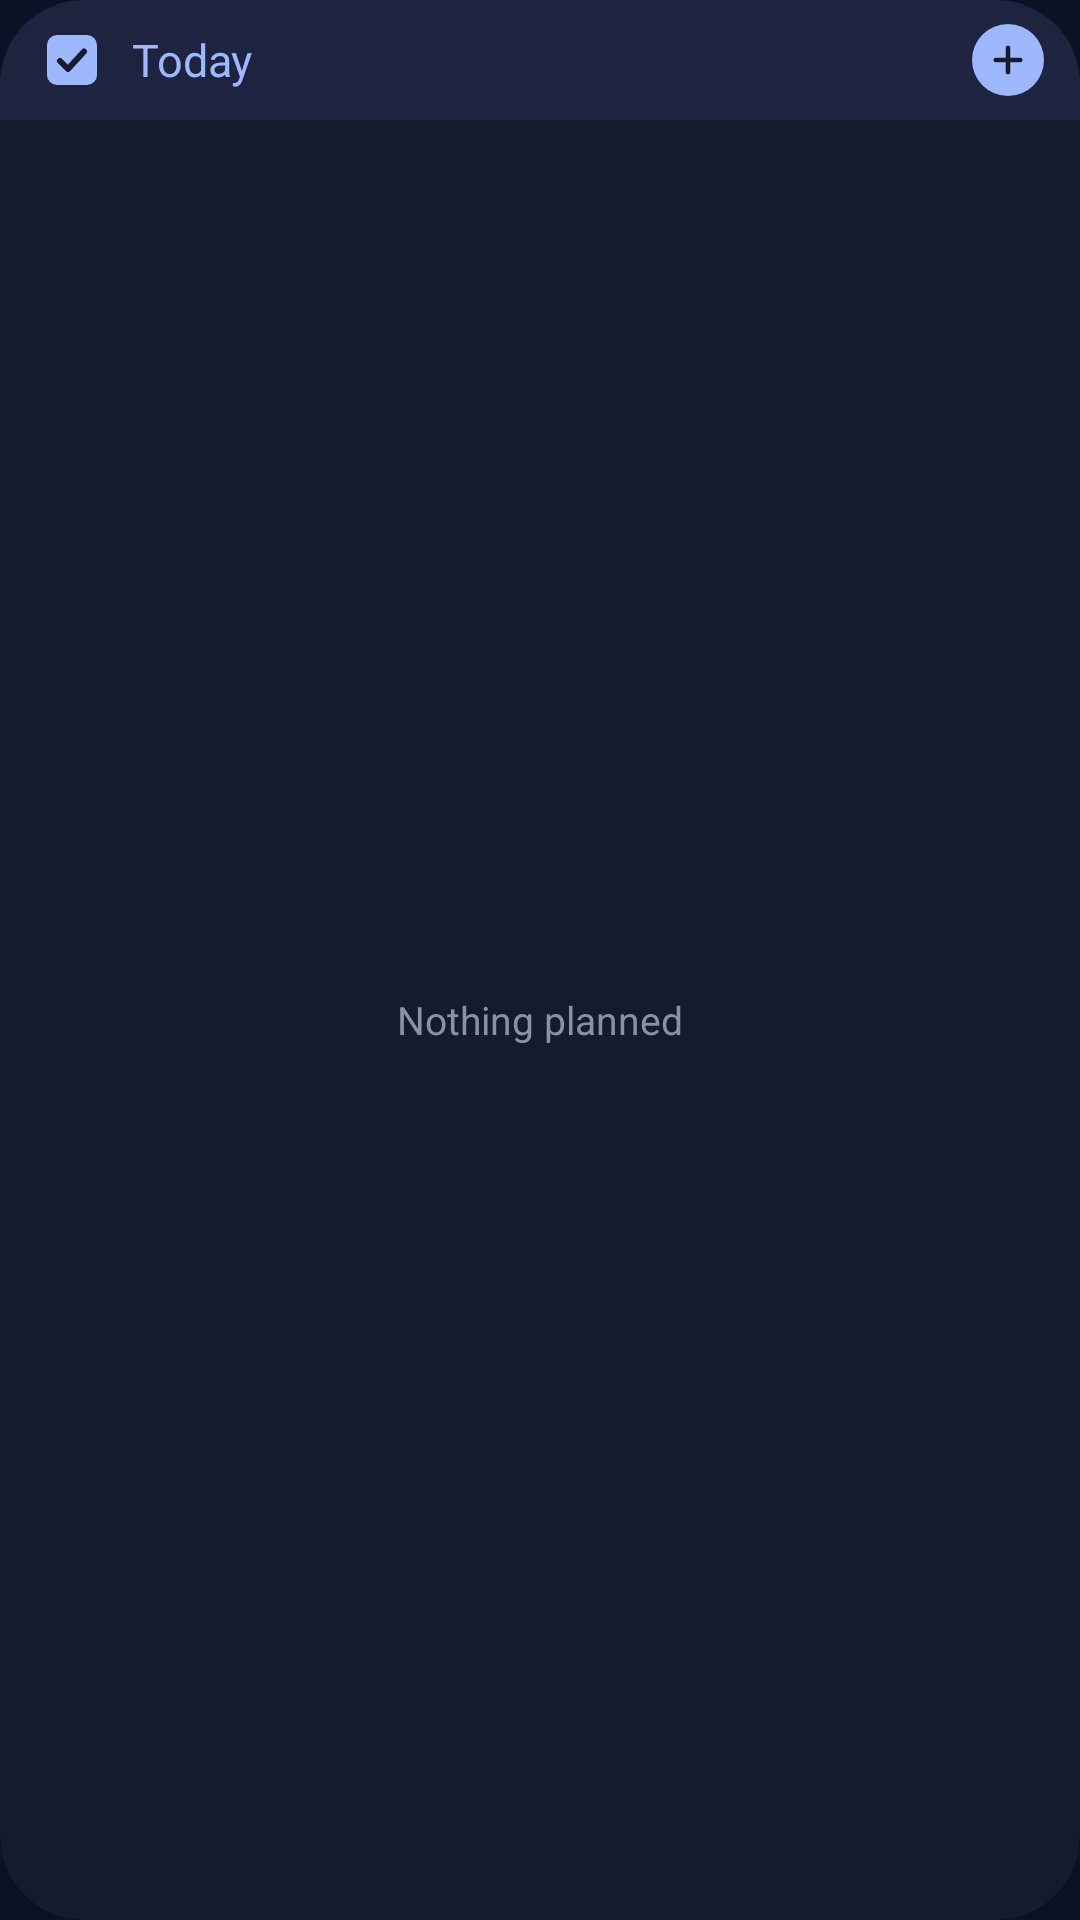

Named icons in this screenshot (1080 × 1920) and their centers, [x,y]:
widget add: [1008,60]
